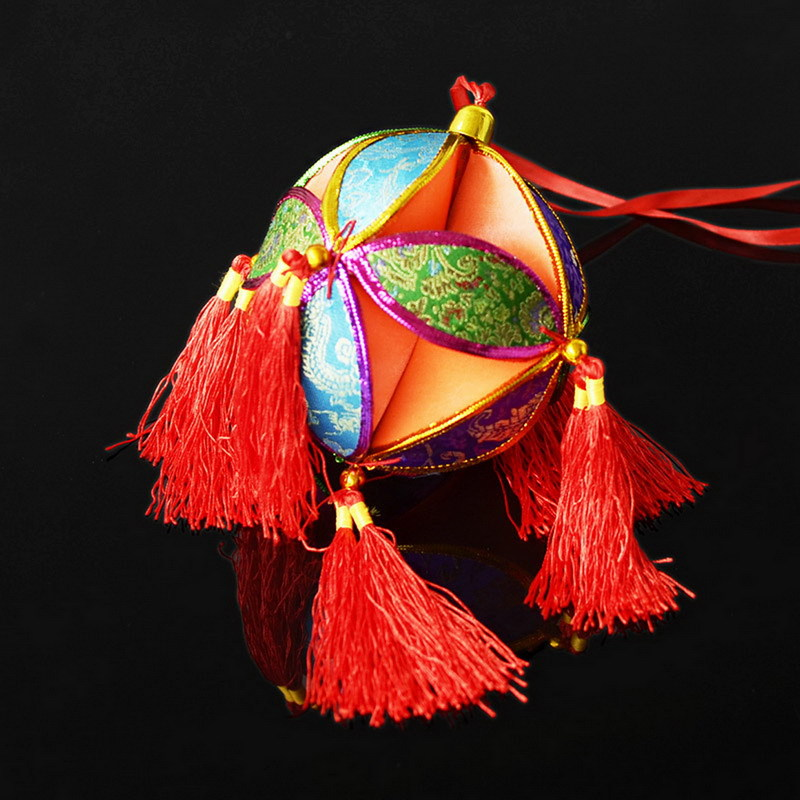xiuqiu: (247, 128, 586, 476)
